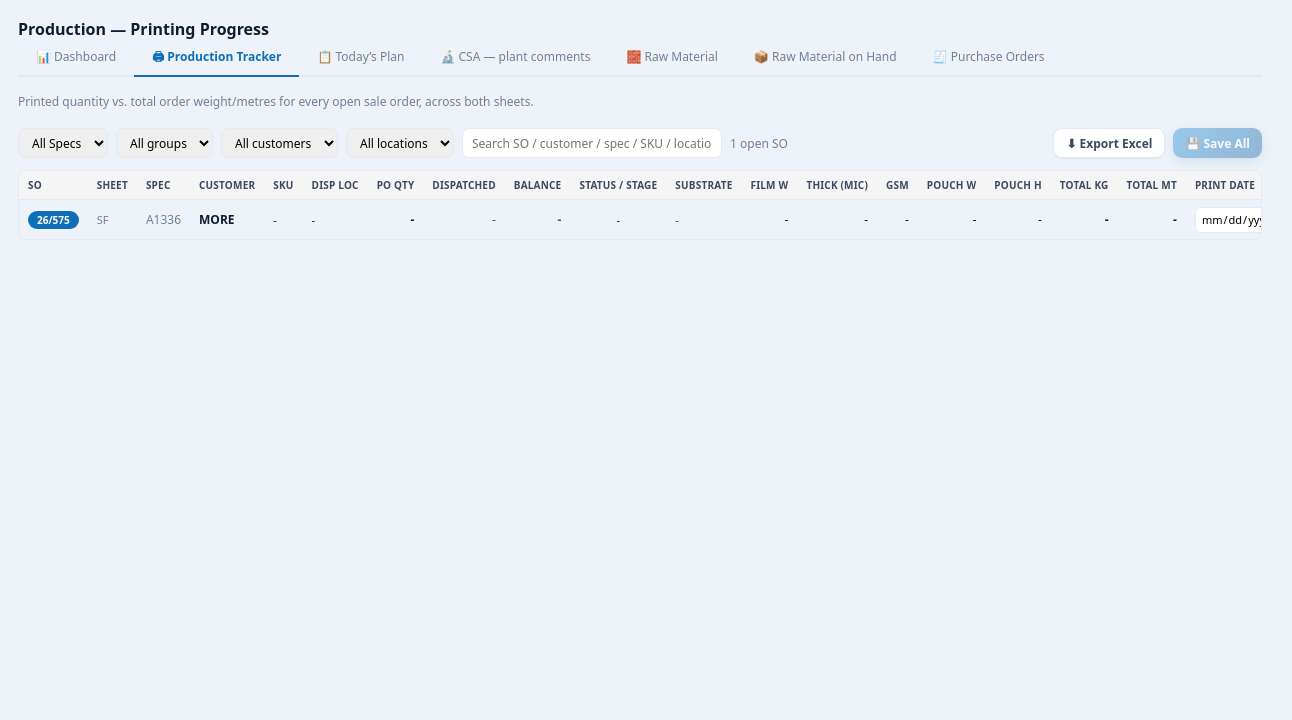
Test case: PM login — Raw Material on Hand (¶4) › shows the stores board read-only: figures and rolls, no MSL box, no status select
Click the text "📦 Raw Material on Hand": (825, 56) [754,48,897,65]
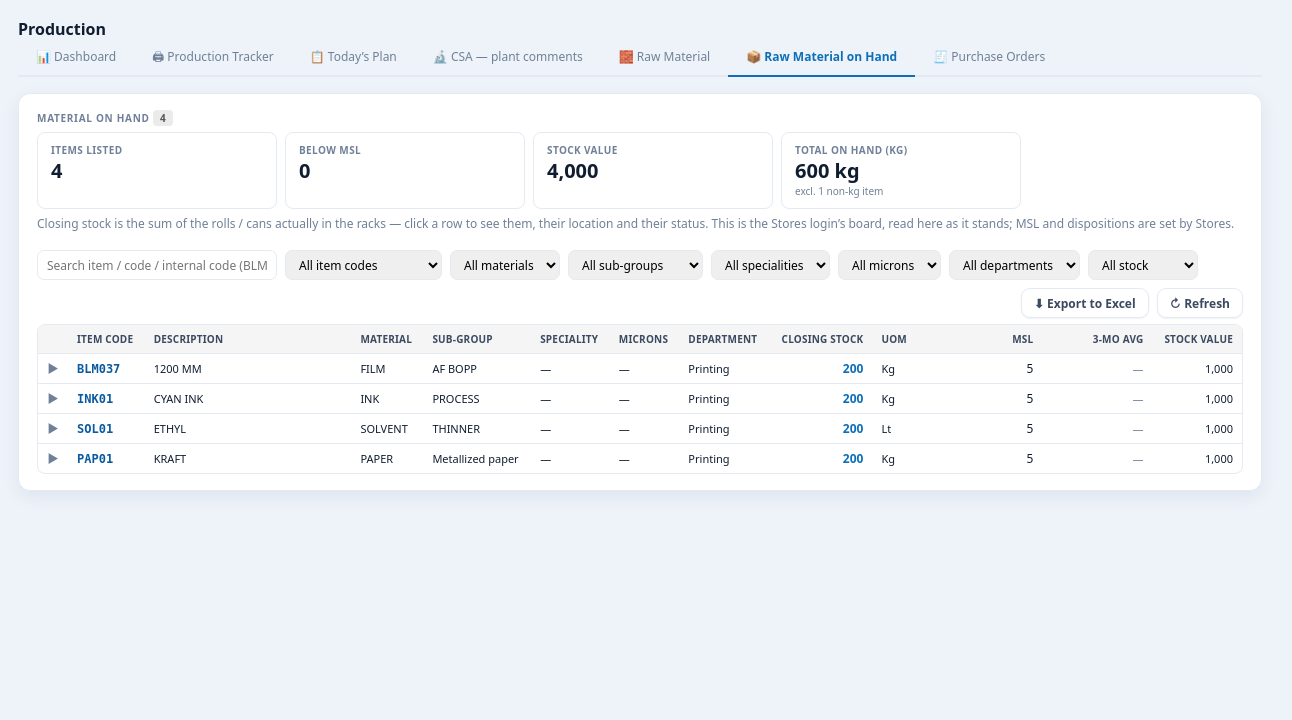
Expected: the text "BLM037" is shown
Click the text "BLM037": (106, 368) [68,354,145,384]
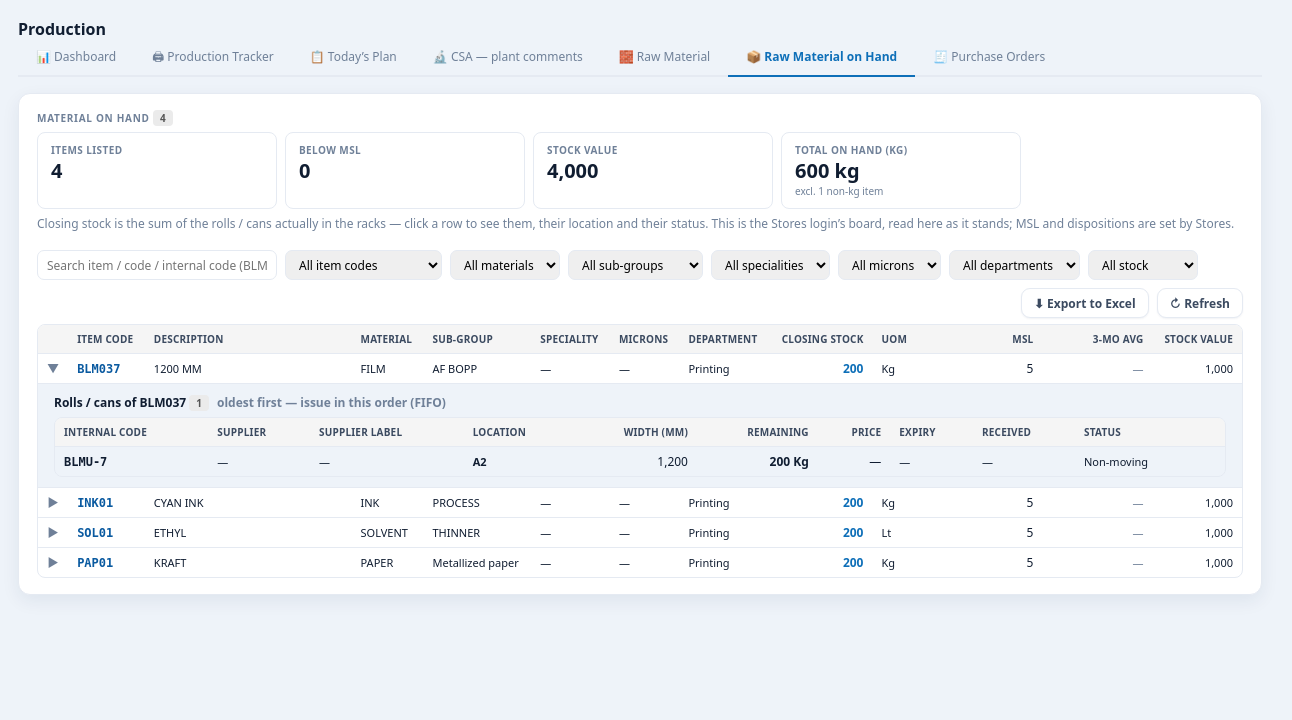
Expected: the text "BLMU-7" is shown, [55,446,208,476]
Expected: the text "Non-moving" is shown, [1084,454,1148,469]
